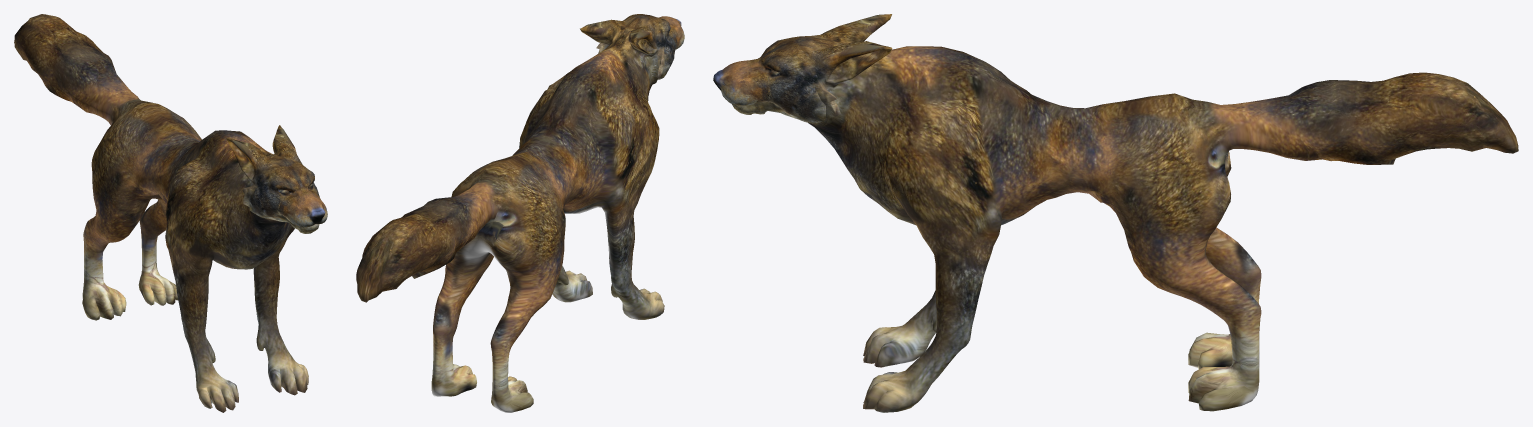
The model's file is WolfMeshTest.fbx.
3 renders of one model, left to right at view 1: azimuth 30°, elevation 25°; view 2: azimuth 150°, elevation 25°; view 3: azimuth 270°, elevation 25°, orthographic. The views are drawn at different scales.
Visible parts, largest first — view 1: Color_test_1; view 2: Color_test_1; view 3: Color_test_1.
Part boxes in pixels (x1,y1,x2,y2): Color_test_1: [14, 14, 327, 412]; Color_test_1: [356, 14, 684, 412]; Color_test_1: [713, 14, 1518, 412].
Size of the model in its own units: 0.7065 by 1.55 by 3.21.
1 material, 1 textured.
